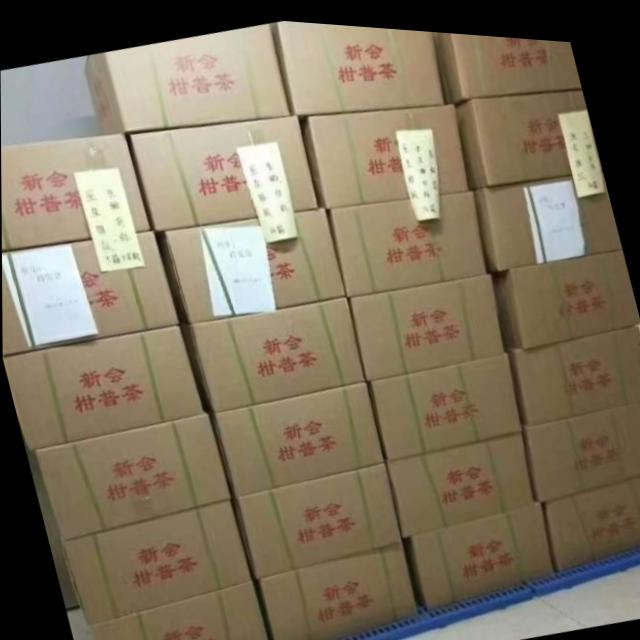box: (2, 322, 204, 451), (35, 409, 230, 540), (60, 495, 248, 627), (1, 227, 179, 357), (85, 19, 290, 131), (157, 204, 346, 322), (130, 111, 318, 228), (179, 290, 366, 407), (210, 375, 385, 493), (233, 456, 401, 574), (1, 131, 154, 250), (300, 97, 468, 204), (328, 182, 486, 292), (350, 265, 505, 375), (256, 535, 417, 640), (402, 493, 553, 601), (369, 346, 521, 453), (271, 17, 443, 111), (386, 425, 534, 530), (472, 161, 621, 263), (452, 81, 602, 181), (491, 238, 638, 340), (504, 315, 640, 420), (526, 391, 640, 494), (87, 575, 267, 640), (432, 25, 580, 96), (544, 465, 640, 562)
